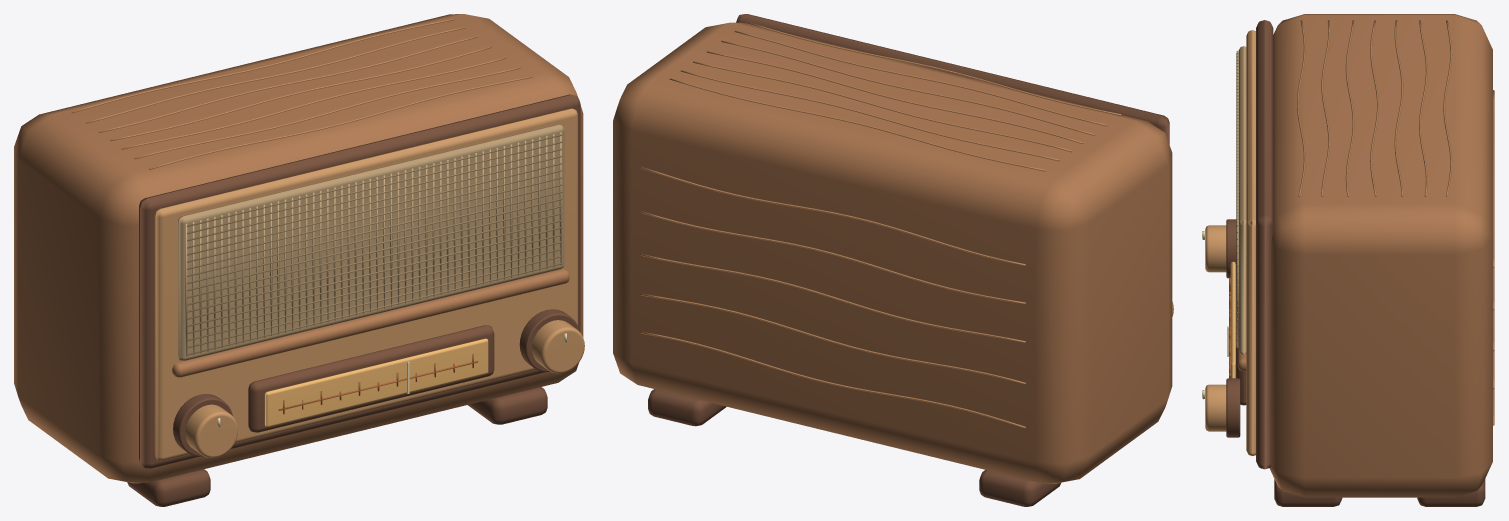
Rendered from radio.glb.
3 views of the same model, side by side, from view 1: azimuth 30°, elevation 25°; view 2: azimuth 150°, elevation 25°; view 3: azimuth 270°, elevation 25° (orthographic). The views are drawn at different scales.
Visible parts, largest first — view 1: radio, dial, knobR, knobL; view 2: radio; view 3: radio, knobL, knobR, dial.
Boxes of the visible parts, x1=… form: radio: x1=14, y1=14, x2=583, y2=506; dial: x1=264, y1=338, x2=488, y2=426; knobR: x1=173, y1=394, x2=238, y2=457; knobL: x1=519, y1=309, x2=584, y2=373; radio: x1=613, y1=14, x2=1172, y2=506; radio: x1=1236, y1=14, x2=1494, y2=506; knobL: x1=1202, y1=378, x2=1240, y2=437; knobR: x1=1202, y1=219, x2=1236, y2=278; dial: x1=1227, y1=261, x2=1235, y2=378.
Bounding box in the file's own units: 0.3 × 0.1978 × 0.1677.
